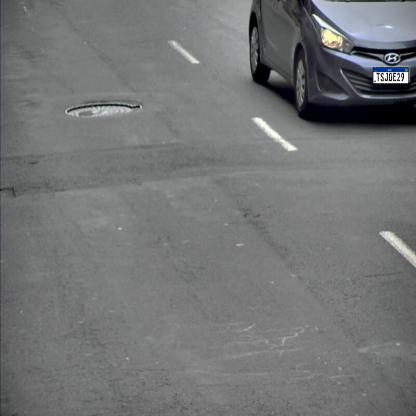PlacaM: (373, 67, 409, 84)
